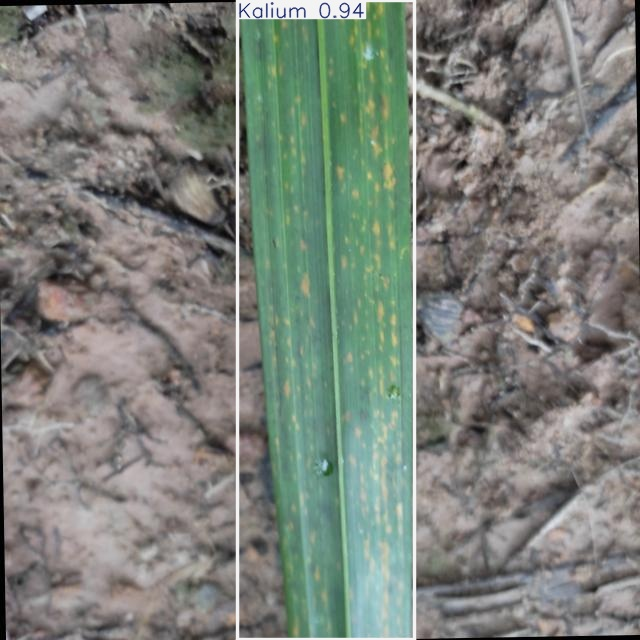Kalium: (238, 0, 414, 640)
